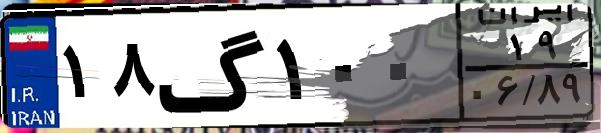0: (385, 28, 445, 110), (330, 28, 385, 110), (470, 70, 495, 125)
1: (270, 28, 330, 110), (57, 26, 110, 100), (508, 27, 537, 80)
6: (495, 70, 520, 125)
8: (110, 28, 156, 98), (535, 70, 560, 125)
9: (560, 70, 590, 125), (537, 27, 568, 80)
گ: (156, 12, 270, 120)
